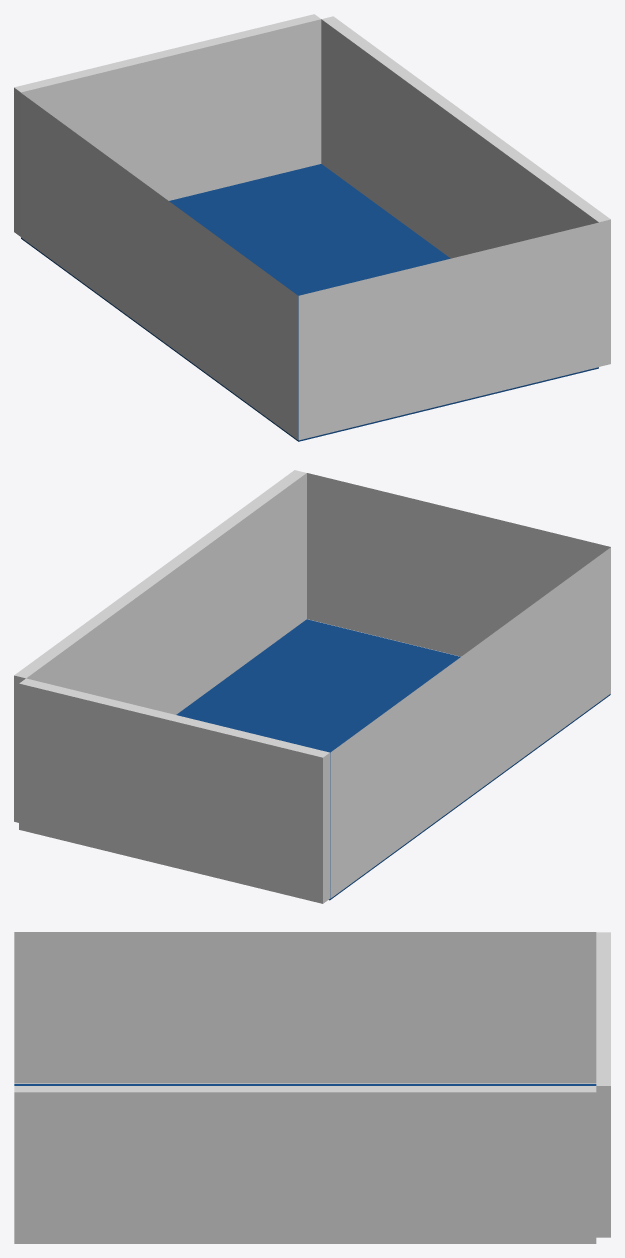
Rendered from Taguspark.dae.
The picture shows the model from 3 angles, top to bottom: view 1: azimuth 30°, elevation 25°; view 2: azimuth 150°, elevation 25°; view 3: azimuth 270°, elevation 25°; orthographic projection. The views are drawn at different scales.
Visible parts, largest first — view 1: 62deb924906f0f07efebea37 (×5); view 2: 62deb924906f0f07efebea37 (×5); view 3: 62deb924906f0f07efebea37 (×4).
Part boxes in pixels (<box>): 62deb924906f0f07efebea37 (×5): <box>14,14,610,441</box>; 62deb924906f0f07efebea37 (×5): <box>14,470,610,903</box>; 62deb924906f0f07efebea37 (×4): <box>14,932,610,1243</box>.
Bounding box in the file's own units: 5.21 × 8.2 × 2.32.
